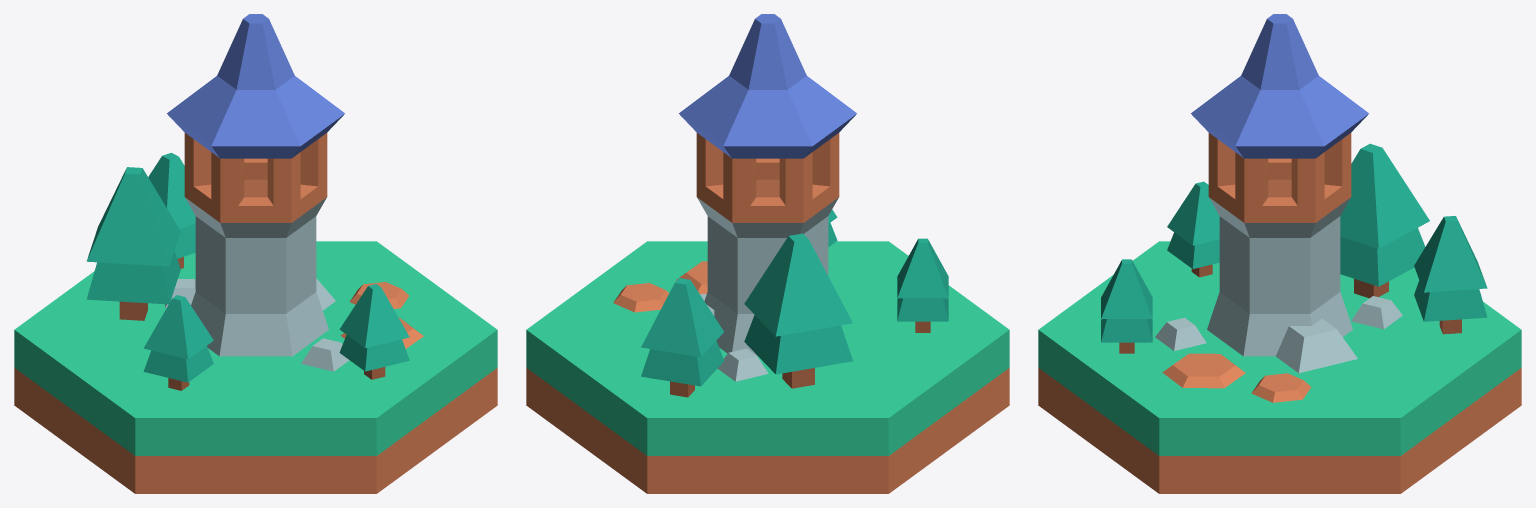
Rendered from Building Tower.glb.
3 renders of one model, left to right at view 1: azimuth 30°, elevation 25°; view 2: azimuth 150°, elevation 25°; view 3: azimuth 270°, elevation 25°, orthographic.
Visible parts, largest first — view 1: building_tower, tower, tree.003, tree.001, tree, tree.002, rock.001, path; view 2: building_tower, tower, tree.003, tree.002, tree, path, rock, path.001; view 3: building_tower, tower, tree.003, tree.002, tree.001, tree, rock.002, path.001, path, rock, rock.001.
Boxes of the visible parts, x1=… form: building_tower: x1=14, y1=241, x2=497, y2=493; tower: x1=167, y1=14, x2=344, y2=356; tree.003: x1=86, y1=167, x2=180, y2=320; tree.001: x1=339, y1=284, x2=409, y2=379; tree: x1=143, y1=295, x2=213, y2=390; tree.002: x1=148, y1=152, x2=195, y2=268; rock.001: x1=301, y1=338, x2=349, y2=371; path: x1=349, y1=282, x2=409, y2=308; building_tower: x1=526, y1=241, x2=1009, y2=493; tower: x1=679, y1=14, x2=856, y2=356; tree.003: x1=744, y1=233, x2=852, y2=388; tree.002: x1=641, y1=278, x2=723, y2=397; tree: x1=897, y1=238, x2=948, y2=332; path: x1=613, y1=283, x2=669, y2=312; rock: x1=717, y1=348, x2=768, y2=381; path.001: x1=676, y1=261, x2=707, y2=293; building_tower: x1=1038, y1=241, x2=1521, y2=493; tower: x1=1191, y1=14, x2=1368, y2=356; tree.003: x1=1340, y1=143, x2=1429, y2=298; tree.002: x1=1414, y1=216, x2=1487, y2=334; tree.001: x1=1101, y1=259, x2=1152, y2=353; tree: x1=1167, y1=181, x2=1219, y2=277; rock.002: x1=1275, y1=318, x2=1357, y2=373; path.001: x1=1162, y1=353, x2=1245, y2=388; path: x1=1251, y1=373, x2=1311, y2=402; rock: x1=1351, y1=296, x2=1402, y2=329; rock.001: x1=1155, y1=317, x2=1206, y2=350.
Bounding box in the file's own units: 1 × 1.02 × 1.15.
